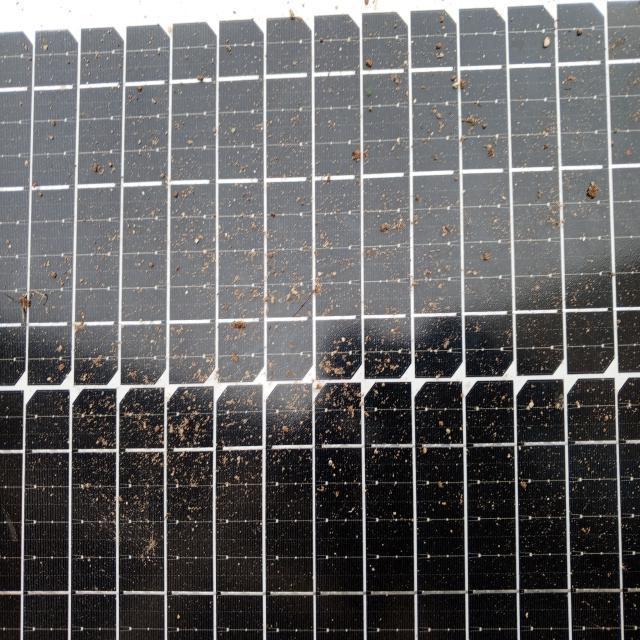Surface Contaminant: (3, 9, 639, 634)
